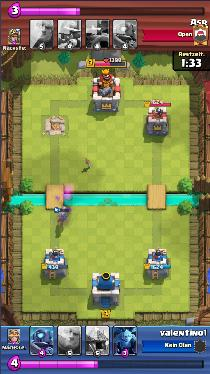ally_musketeer: (55, 208, 67, 223)
